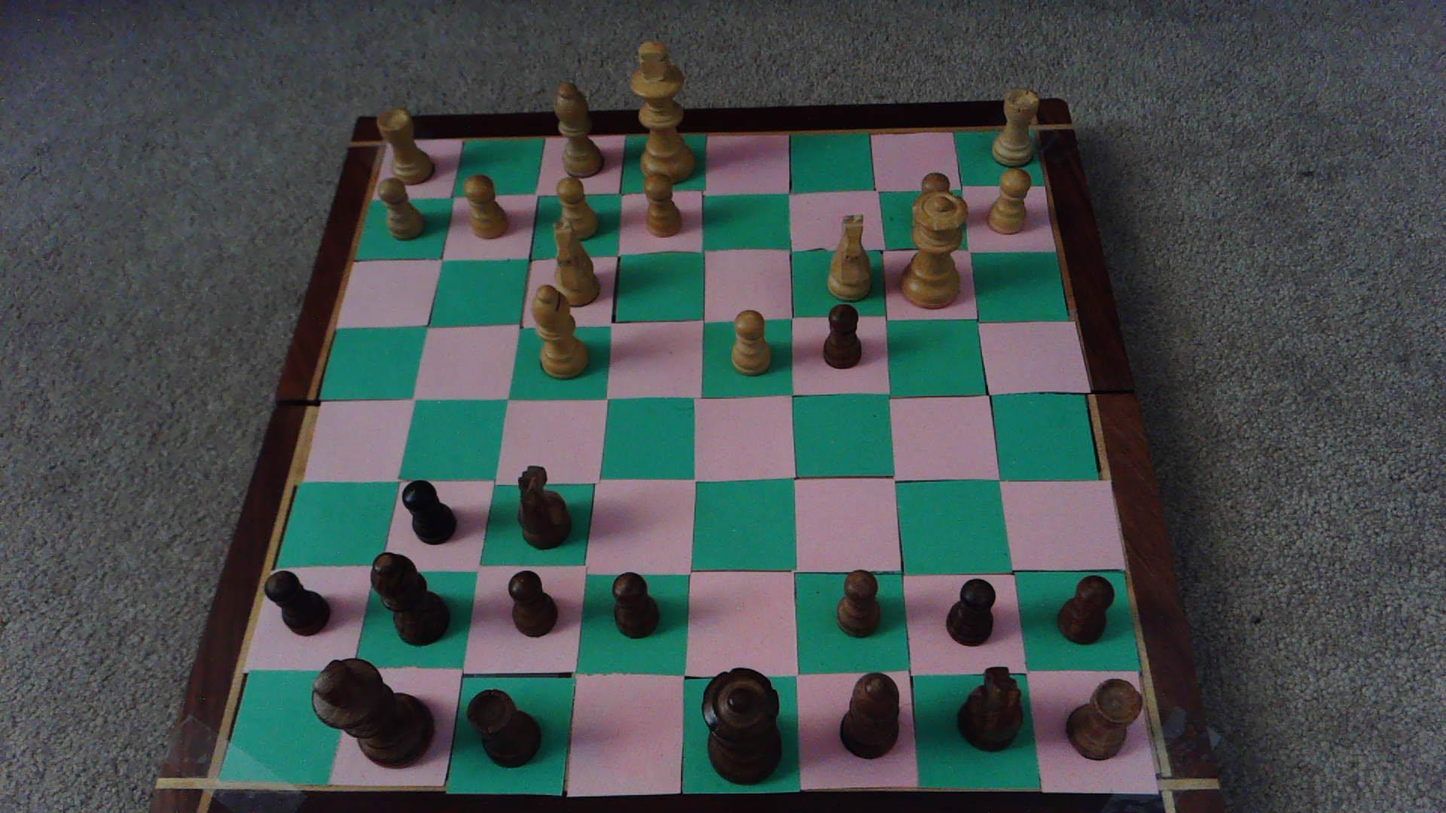dark_piece: (312, 659, 433, 767), (702, 668, 782, 784), (370, 553, 450, 644), (1066, 679, 1142, 760), (467, 689, 541, 767), (957, 667, 1023, 751), (840, 672, 898, 759), (518, 465, 571, 548), (264, 570, 330, 635), (1057, 576, 1114, 644), (401, 480, 454, 544), (508, 571, 557, 637), (946, 579, 994, 646), (612, 572, 659, 638), (837, 571, 880, 637), (823, 304, 861, 368)
white_piece: (629, 40, 696, 183), (900, 190, 967, 308), (530, 285, 589, 379), (552, 82, 604, 177), (550, 221, 601, 308), (376, 109, 434, 184), (826, 213, 872, 299), (991, 89, 1039, 168), (910, 172, 963, 238), (377, 177, 424, 242), (555, 177, 601, 239), (463, 176, 509, 238), (990, 168, 1031, 233), (731, 309, 770, 375), (643, 171, 682, 236)
